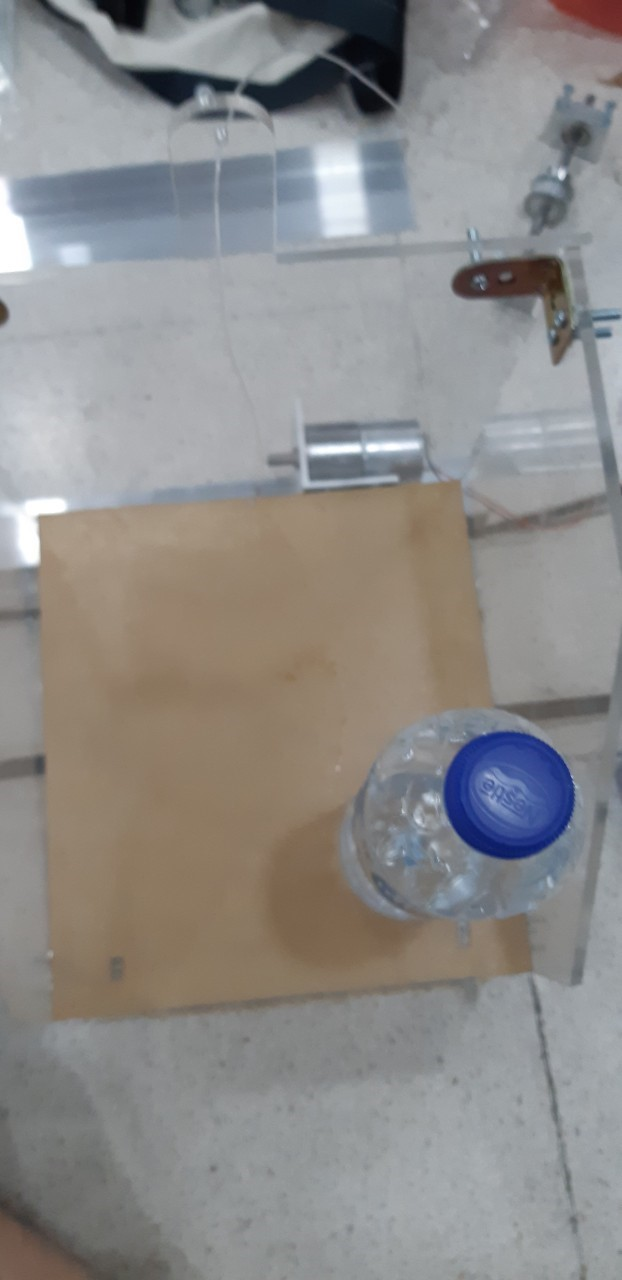PlasticBottle: (339, 706, 582, 929)
